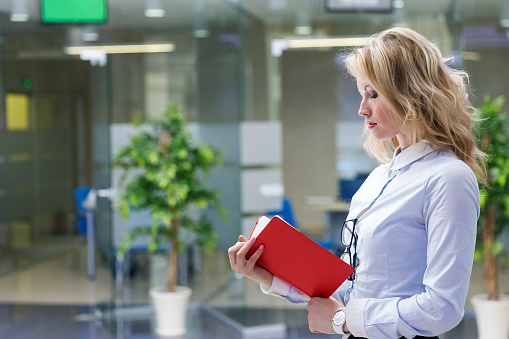em pe: (267, 30, 491, 339)
